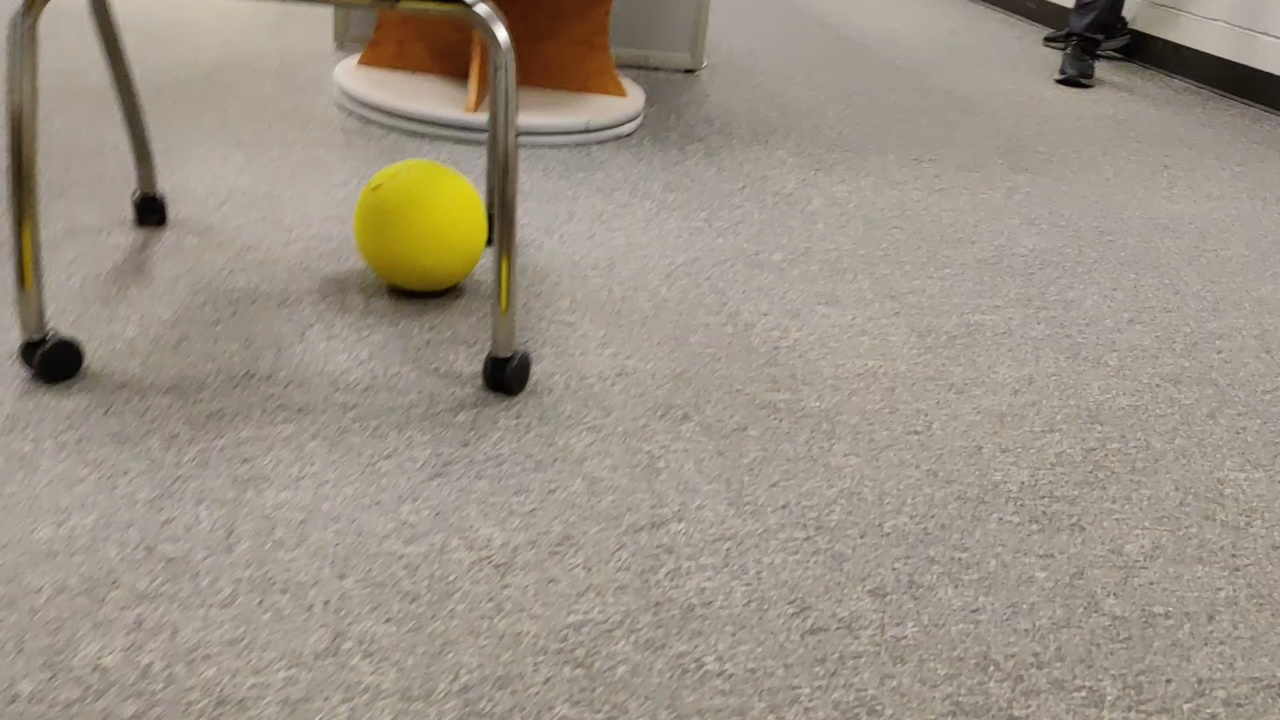Ball: (358, 159, 481, 298)
